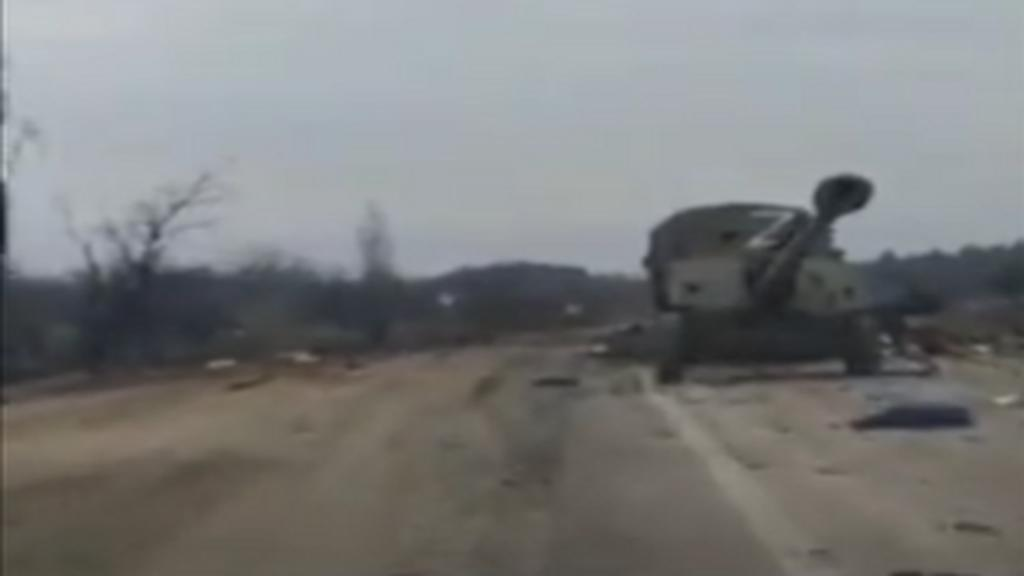ART: (640, 172, 906, 380)
